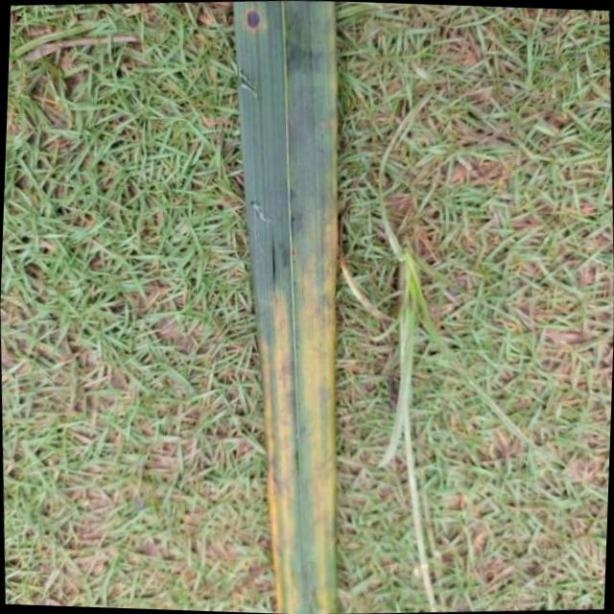Megnesium: (226, 0, 334, 614)
